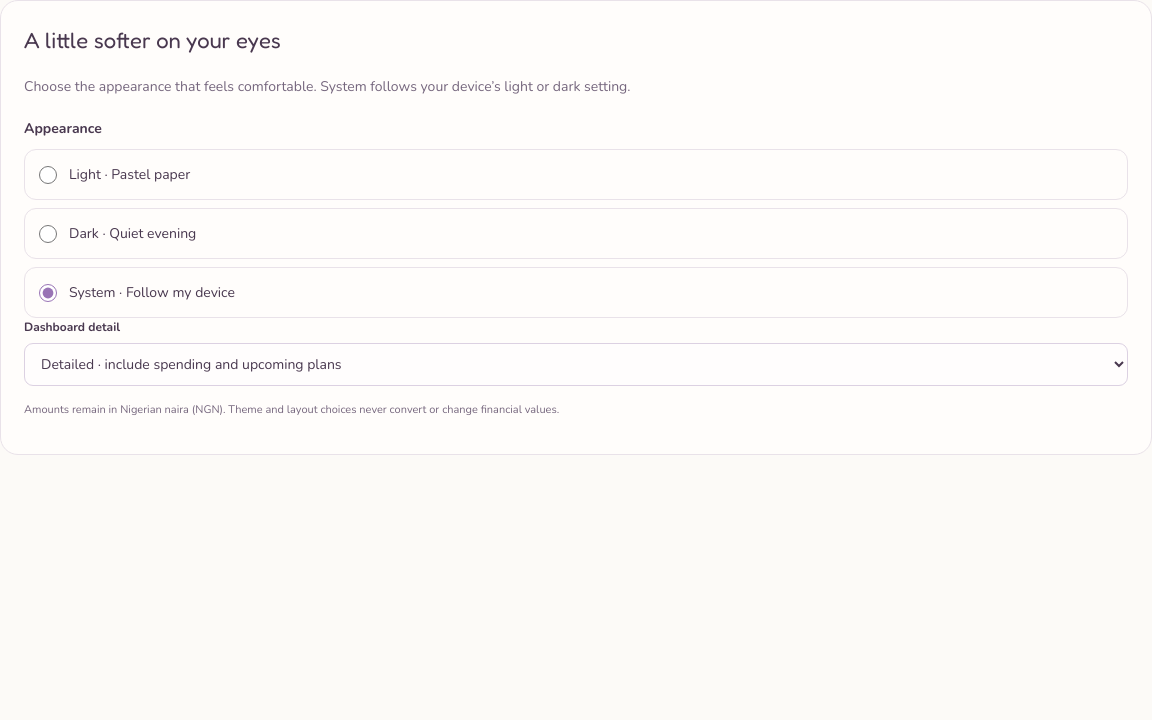
it: reports storage failure without pretending to save a new preference
What coordinates should you click on to do the following:
click the radio button labelled "Dark · Quiet evening"
I would click on:
 (48, 234)
Its box is 39,225 -> 57,243.
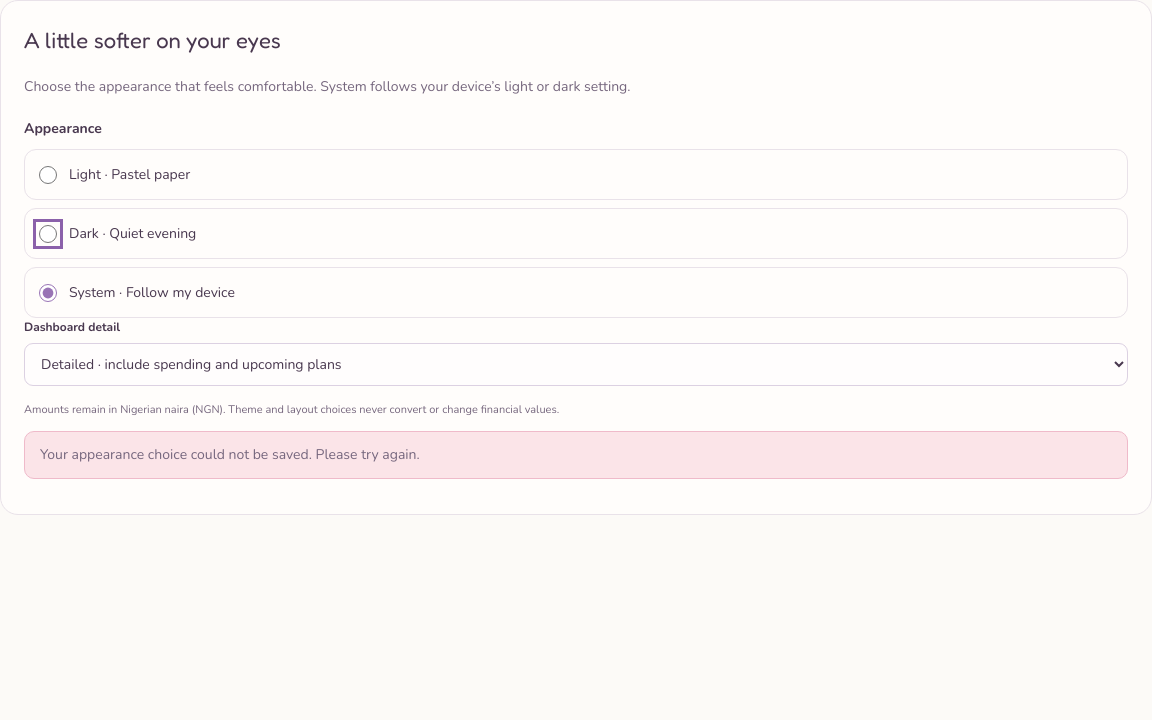
Expected: the radio button labelled "System · Follow my device" is checked, 39,284 -> 57,302
Expected: the message shows "could not be saved", 40,445 -> 420,464
